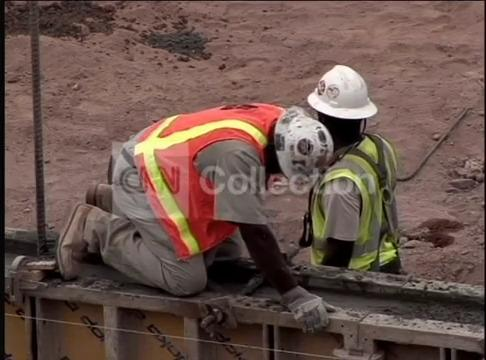Gloves: (282, 285, 325, 325)
Helmet: (306, 64, 378, 120)
Person: (28, 95, 309, 295), (299, 63, 403, 274)
Safety Boot: (56, 199, 91, 267)
Safety Vest: (128, 101, 284, 260), (326, 155, 394, 262), (271, 106, 324, 186)
